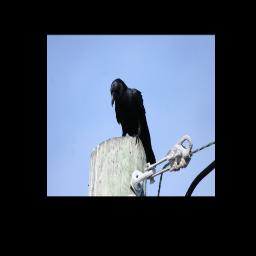Crow: (110, 78, 157, 169)
